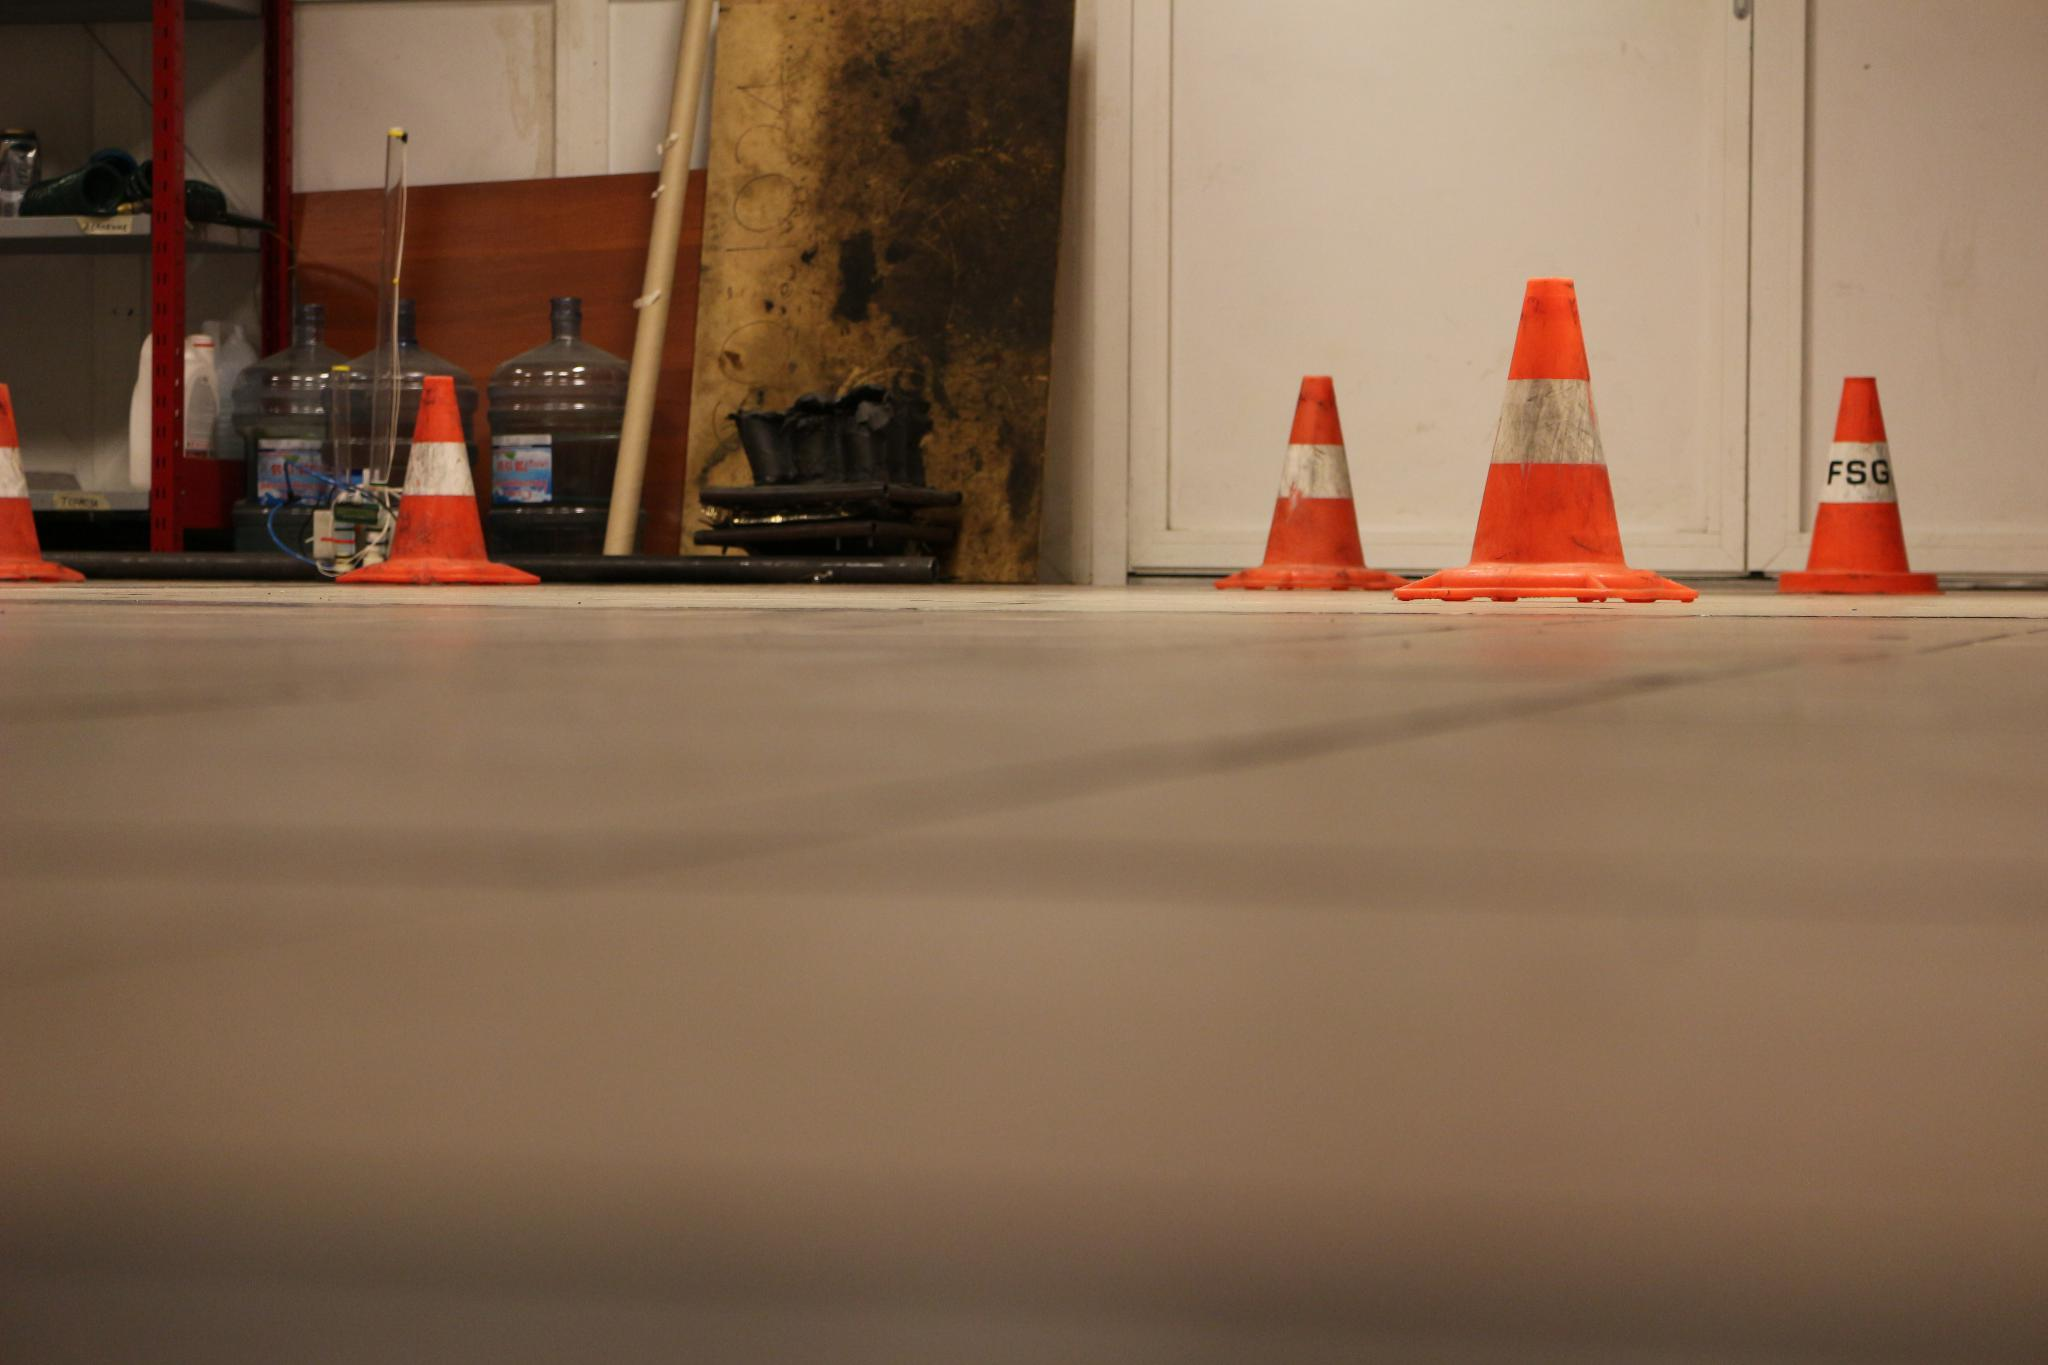Orange_Cone: (1405, 257, 1690, 611), (340, 367, 545, 600), (1766, 347, 1948, 603), (1218, 356, 1405, 594), (0, 353, 91, 596)
